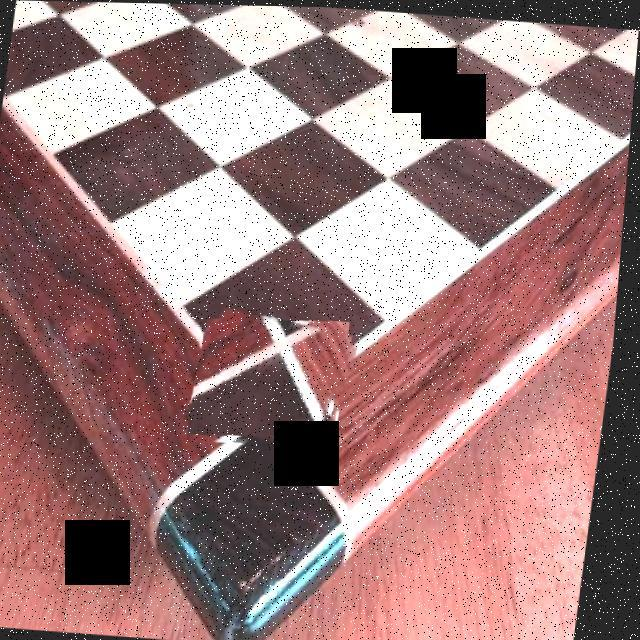chess-table-corners: (193, 310, 362, 452)
